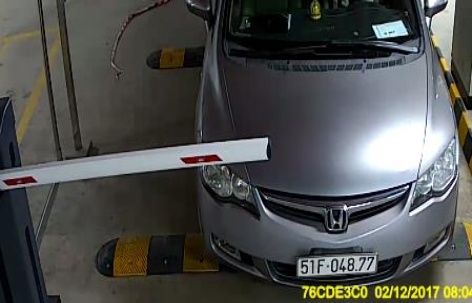plate: (293, 246, 380, 280)
